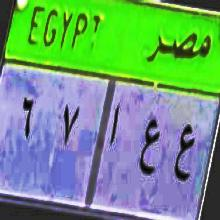6: (19, 94, 36, 146)
7: (62, 98, 80, 165)
ain: (172, 115, 196, 193), (138, 111, 160, 185)
alif: (108, 96, 122, 160)
